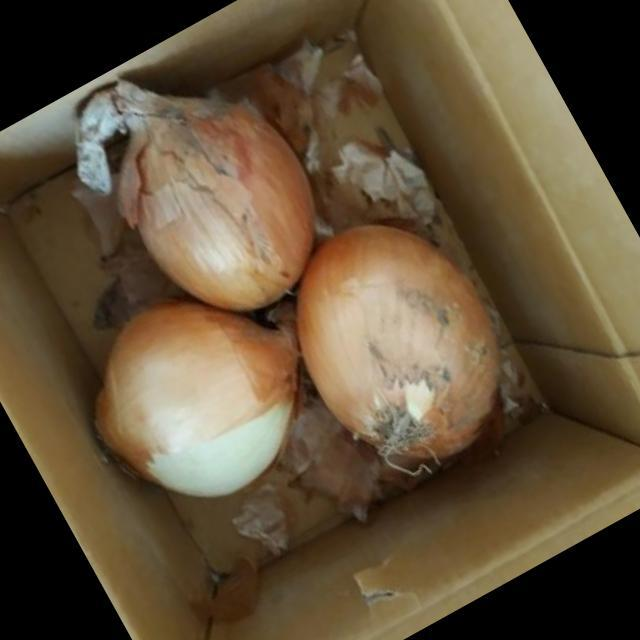Onion: (298, 222, 503, 456), (124, 107, 322, 316), (94, 301, 305, 490)
